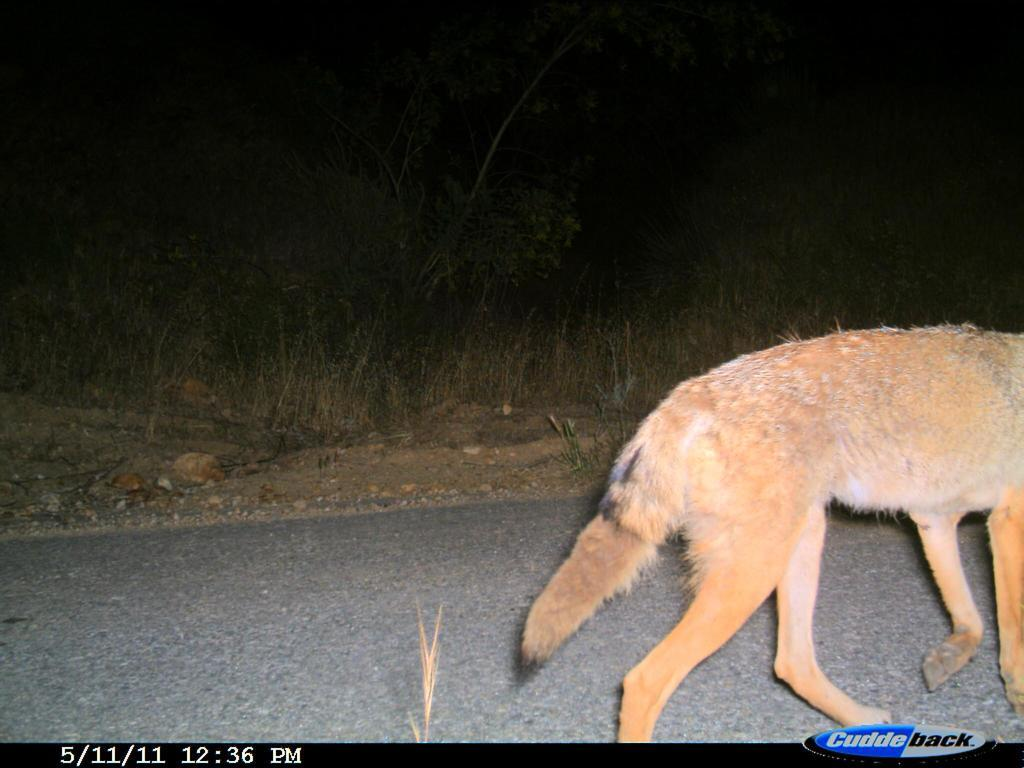coyote: (523, 317, 1023, 743)
